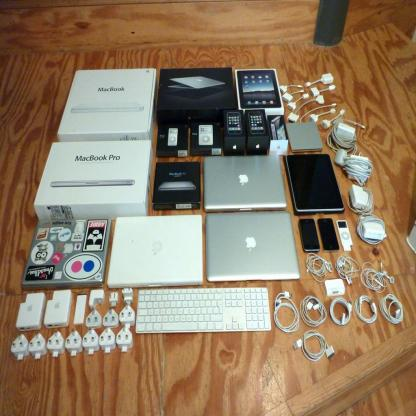board: (106, 216, 203, 286), (204, 212, 300, 280), (205, 154, 286, 211), (168, 74, 226, 90)
